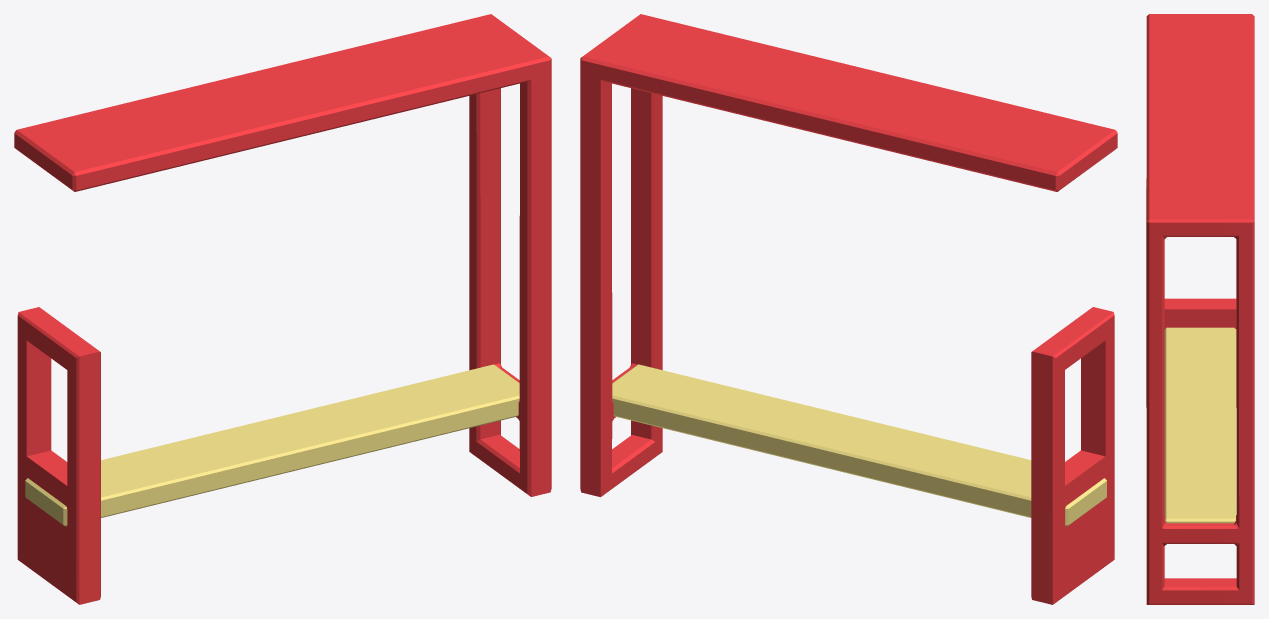
File: SM_City_Bench2.fbx
3 views of the same model, side by side, from view 1: azimuth 30°, elevation 25°; view 2: azimuth 150°, elevation 25°; view 3: azimuth 270°, elevation 25° (orthographic). The views are drawn at different scales.
Parts seen in each view (by area): view 1: SM_City_Bench2; view 2: SM_City_Bench2; view 3: SM_City_Bench2.
Part boxes in pixels (x1=…): SM_City_Bench2: x1=14, y1=14, x2=551, y2=604; SM_City_Bench2: x1=580, y1=14, x2=1117, y2=604; SM_City_Bench2: x1=1146, y1=14, x2=1254, y2=604.
Bounding box in the file's own units: 283 × 245 × 62.38.
